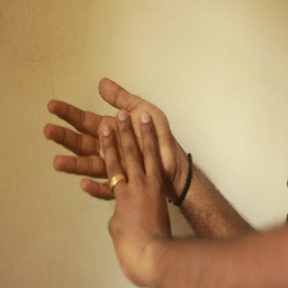M: (40, 74, 192, 225)
